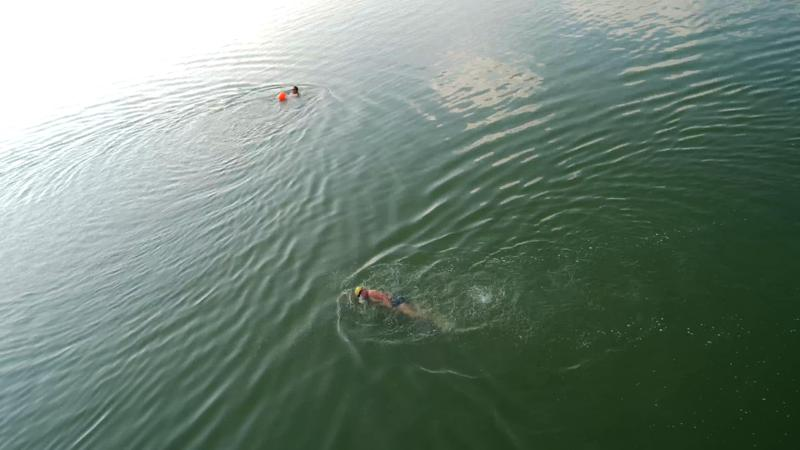swimmers: (352, 284, 418, 318), (277, 83, 300, 101)
